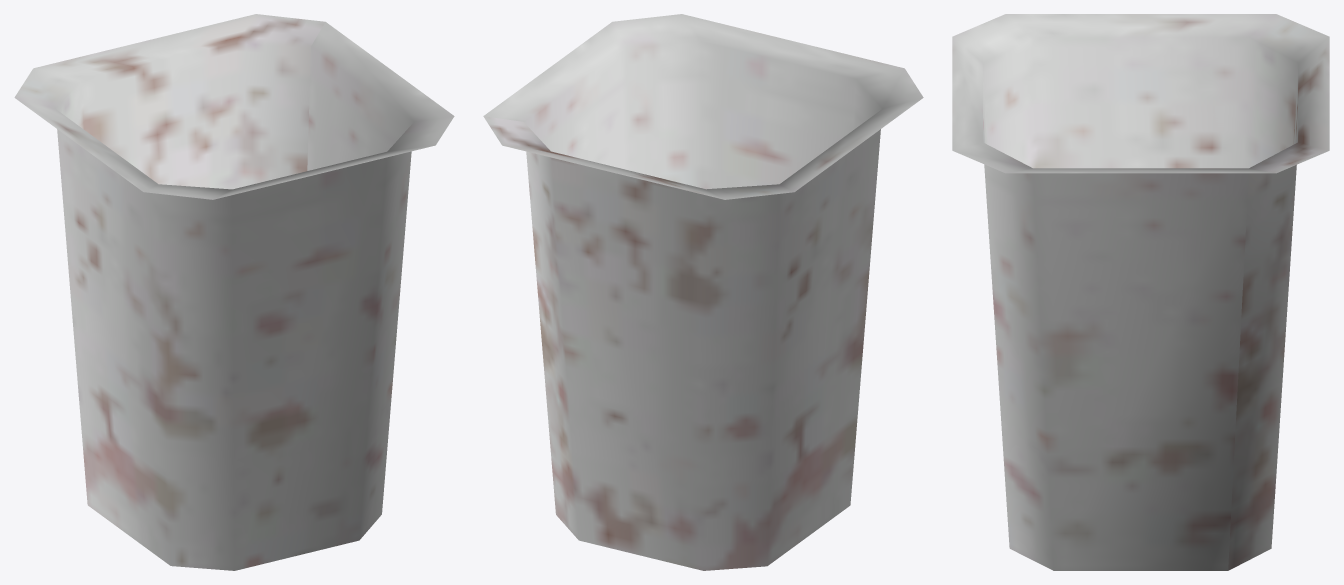
File: SM_TrashScrapCup_02_B.fbx
3 renders of one model, left to right at view 1: azimuth 30°, elevation 25°; view 2: azimuth 150°, elevation 25°; view 3: azimuth 270°, elevation 25°, orthographic. The views are drawn at different scales.
Parts seen in each view (by area): view 1: SM_TrashScrapCup_02_B; view 2: SM_TrashScrapCup_02_B; view 3: SM_TrashScrapCup_02_B.
Boxes of the visible parts, box(x1,y1,x2,y2) form: SM_TrashScrapCup_02_B: box(14, 14, 454, 570); SM_TrashScrapCup_02_B: box(483, 14, 923, 570); SM_TrashScrapCup_02_B: box(952, 14, 1329, 570).
Size of the model in its own units: 7.11 by 7.11 by 8.8.
1 material, 1 textured.
